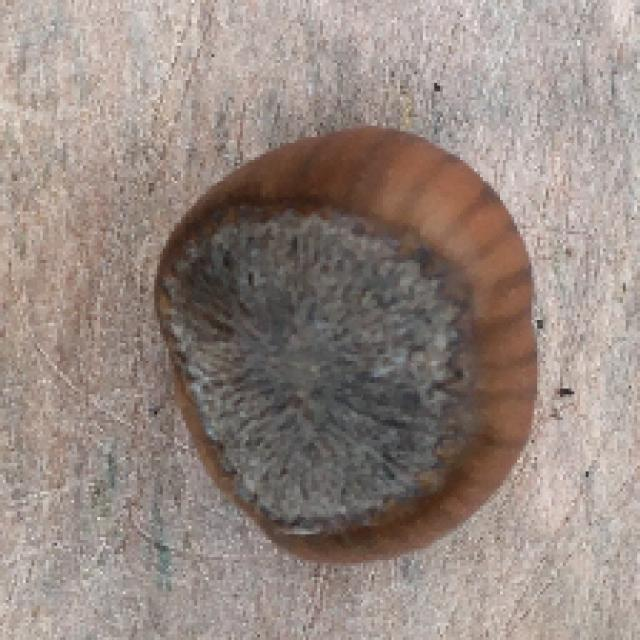damagedHazelnut: (143, 117, 554, 576)
